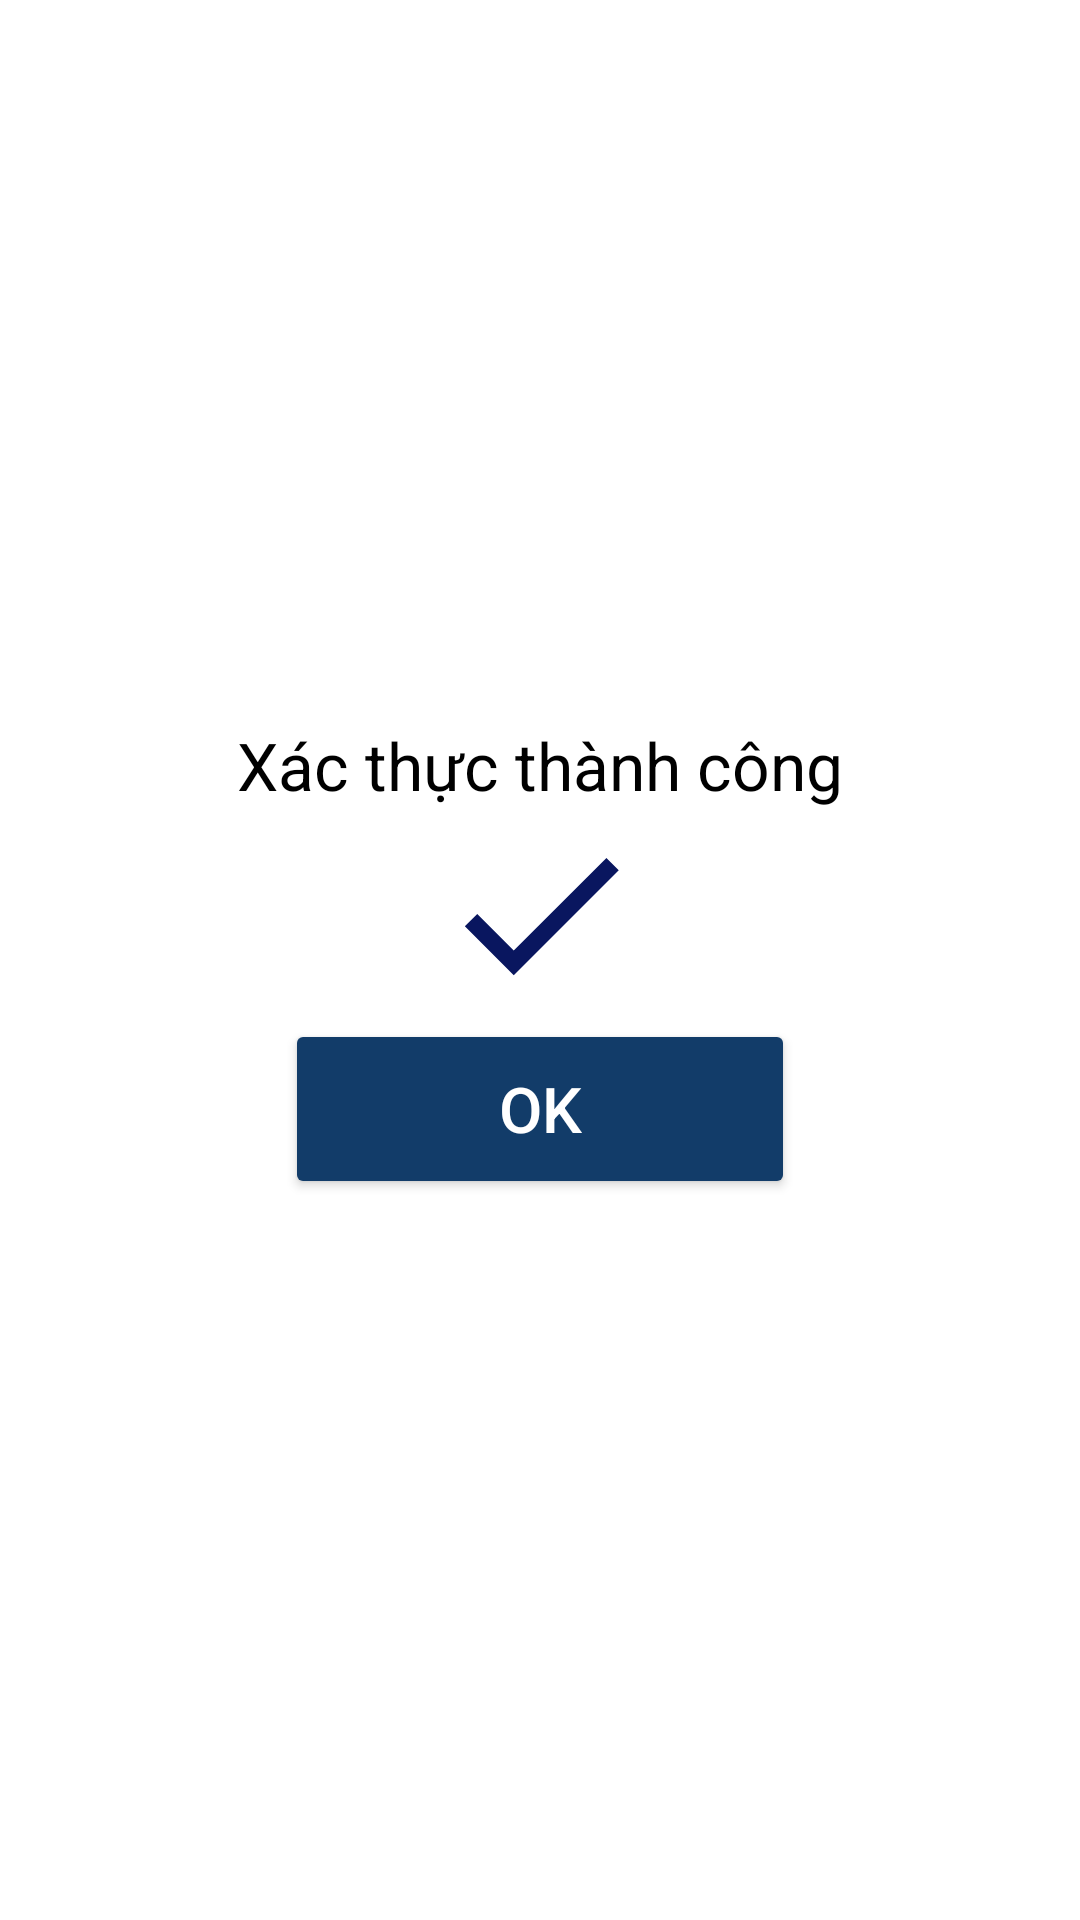

Locate icon controls on the screen. Image size 1080px x 1920px, boxes as (x1, y1, x2, y2).
check: (465, 858, 619, 975)
